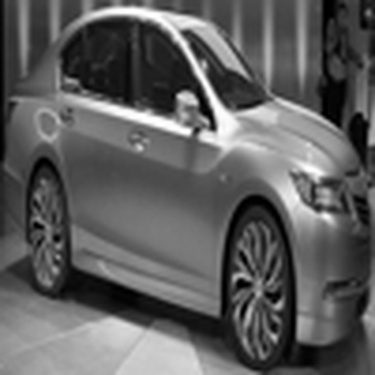car: (10, 6, 346, 343)
